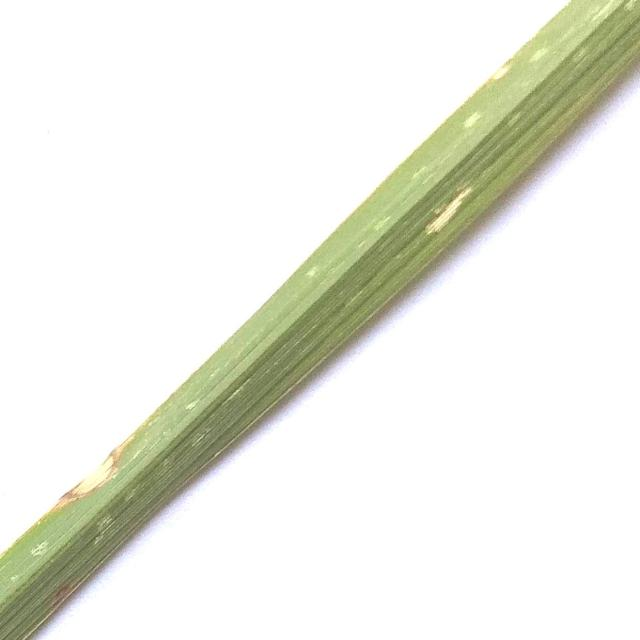Leaf_Blast: (51, 429, 133, 503), (413, 167, 481, 241)
